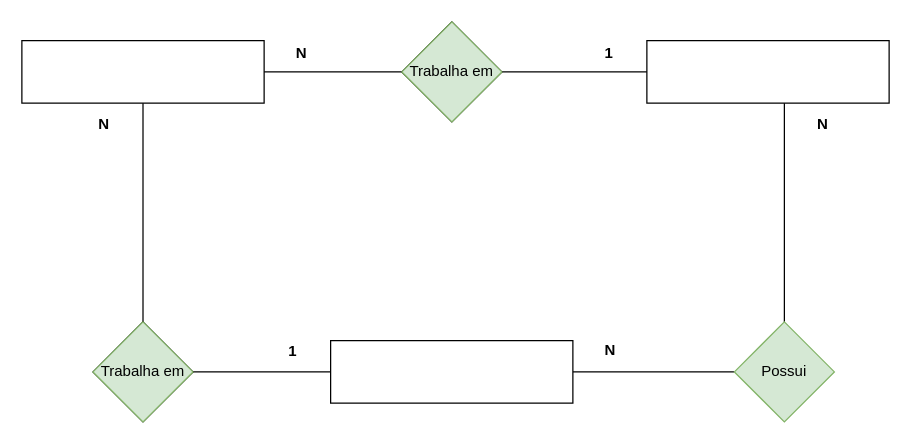
Some shapes in this 911 by 444 pixel diagram are drawn without their labels. Each missing label, with the centre of its shape:
Colaborador: (142,71)
Setor: (767,71)
Unidade: (451,371)
